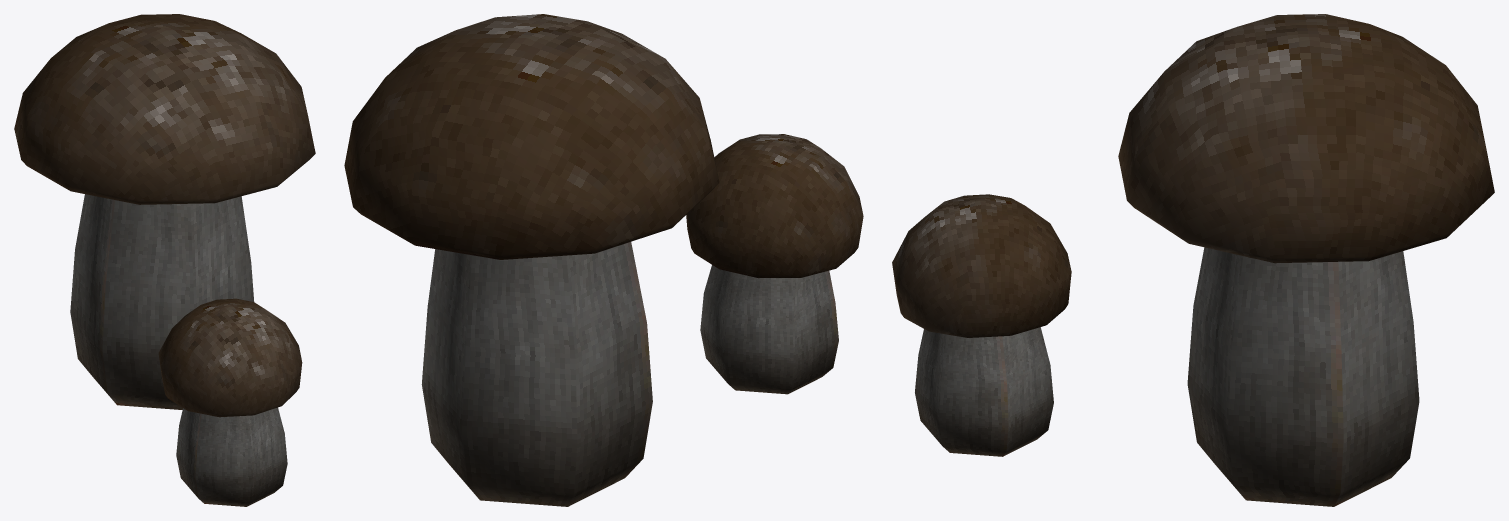
File: mushroom_n_2_2.glb
The picture shows the model from 3 angles, left to right: view 1: azimuth 30°, elevation 25°; view 2: azimuth 150°, elevation 25°; view 3: azimuth 270°, elevation 25°; orthographic projection. The views are drawn at different scales.
Parts seen in each view (by area): view 1: mushroom_n_2_2; view 2: mushroom_n_2_2; view 3: mushroom_n_2_2.
Boxes of the visible parts, x1,y1,x2,y2 form: mushroom_n_2_2: [14, 14, 315, 506]; mushroom_n_2_2: [344, 14, 863, 506]; mushroom_n_2_2: [892, 14, 1494, 506].
Bounding box in the file's own units: 0.1024 × 0.1306 × 0.1639.
Materials: 1 (1 with a texture image).
